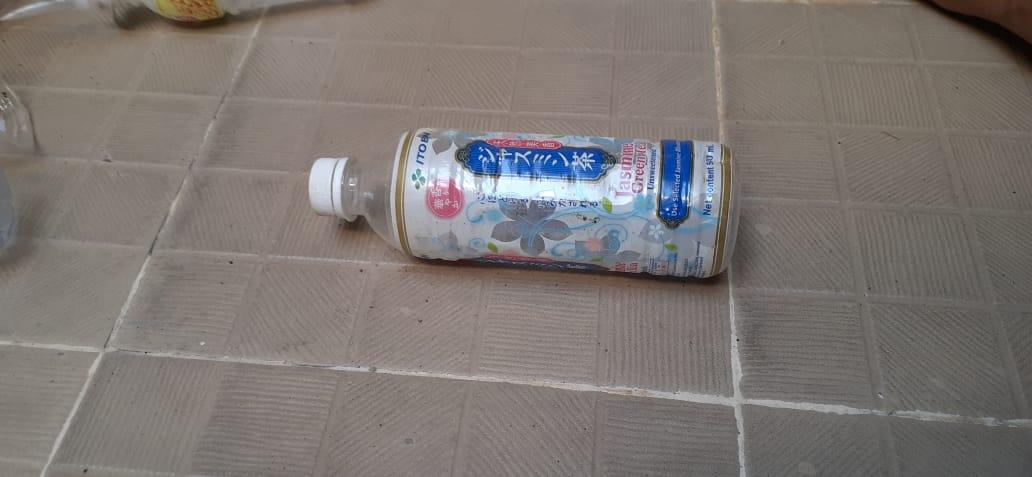Plastik: (309, 128, 741, 280)
